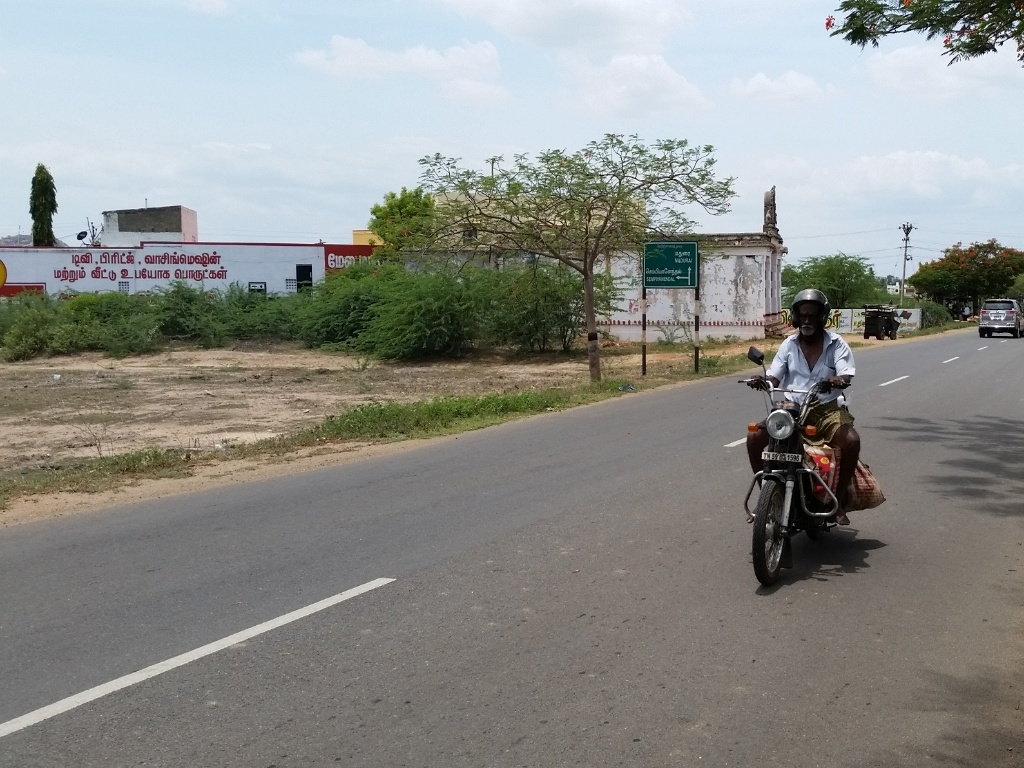biker: (721, 252, 891, 597)
helmet: (785, 275, 842, 365)
